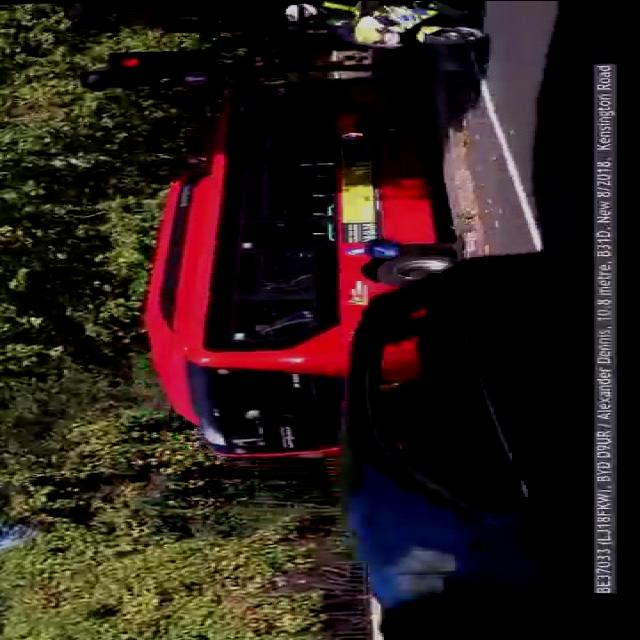bus: (143, 79, 451, 461)
